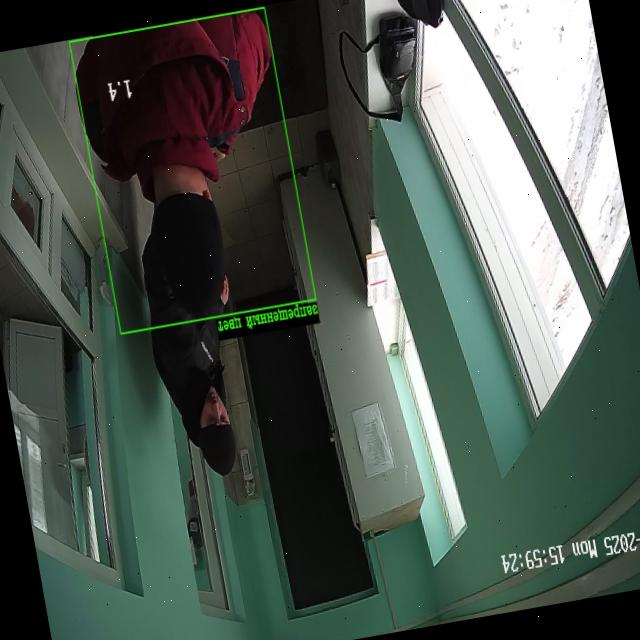Person: (151, 320, 236, 475), (142, 217, 190, 325)
Red uniform: (76, 11, 271, 313)
